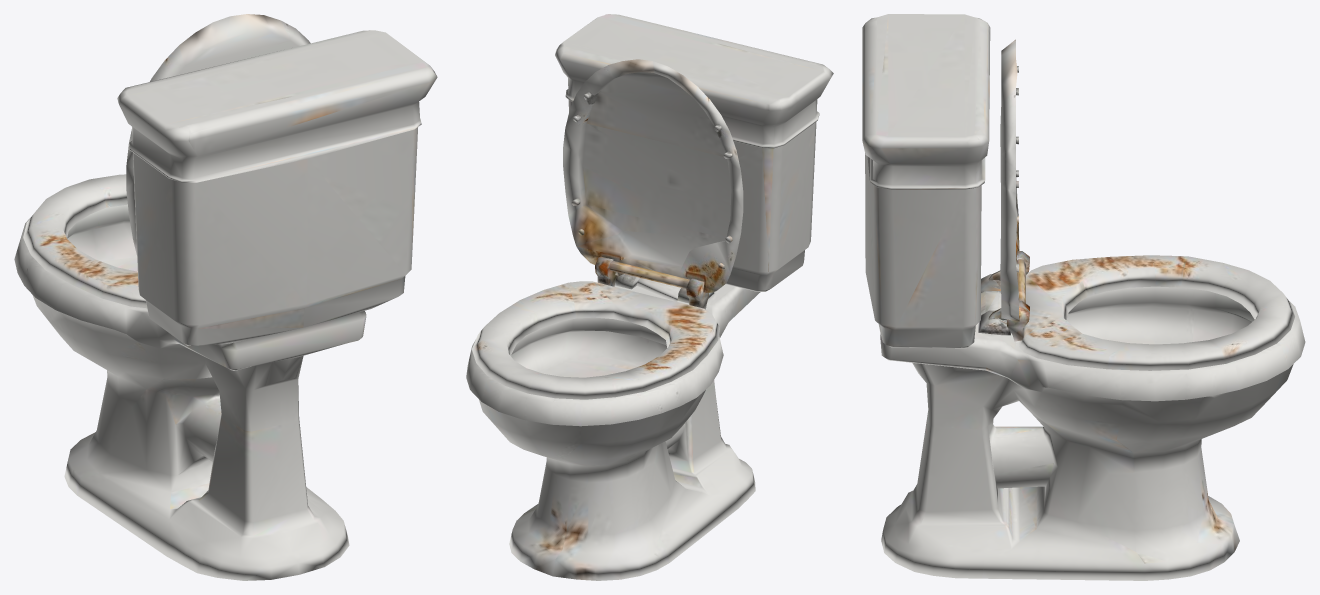
The model's file is office-toilet.glb.
3 renders of one model, left to right at view 1: azimuth 30°, elevation 25°; view 2: azimuth 150°, elevation 25°; view 3: azimuth 270°, elevation 25°, orthographic. The views are drawn at different scales.
Parts seen in each view (by area): view 1: toilet; view 2: toilet; view 3: toilet.
Boxes of the visible parts, x1,y1,x2,y2 form: toilet: (14, 14, 437, 580); toilet: (466, 14, 833, 580); toilet: (862, 14, 1305, 580).
Bounding box in the file's own units: 0.4453 × 0.8 × 0.6517.
Materials: 1 (1 with a texture image).
